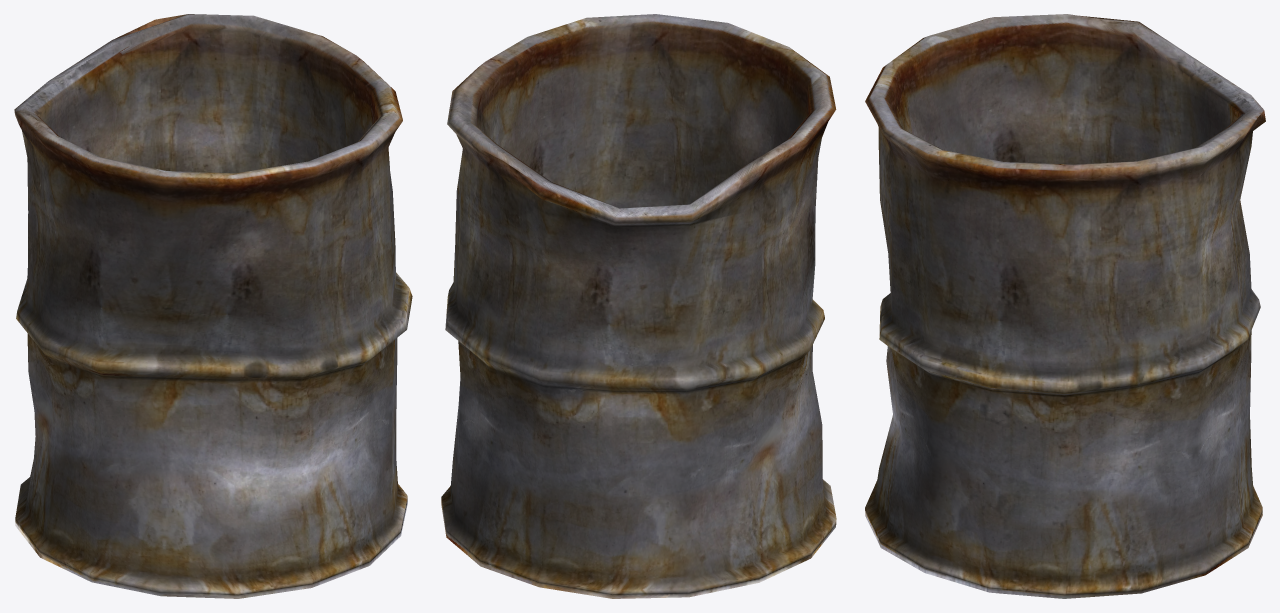
The model's file is Open Oil Drum.fbx.
The picture shows the model from 3 angles, left to right: view 1: azimuth 30°, elevation 25°; view 2: azimuth 150°, elevation 25°; view 3: azimuth 270°, elevation 25°; orthographic projection.
Parts seen in each view (by area): view 1: default; view 2: default; view 3: default.
Boxes of the visible parts, x1,y1,x2,y2 form: default: (14, 14, 412, 598); default: (441, 14, 836, 598); default: (865, 14, 1265, 598).
Bounding box in the file's own units: 175 × 203 × 174.
